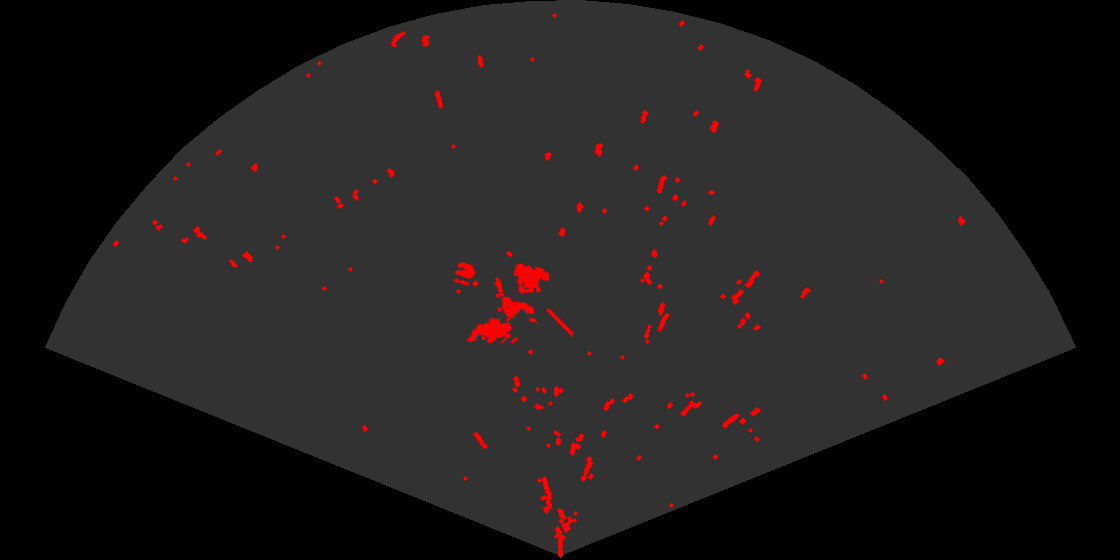AUV: (465, 316, 514, 345)
ball: (452, 260, 478, 288)
cage: (494, 262, 573, 343)
